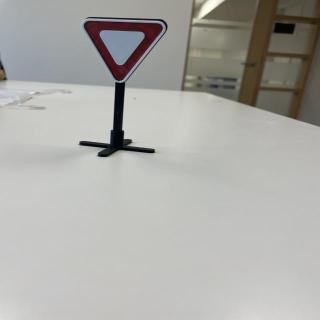sign_yield: (82, 20, 171, 86)
